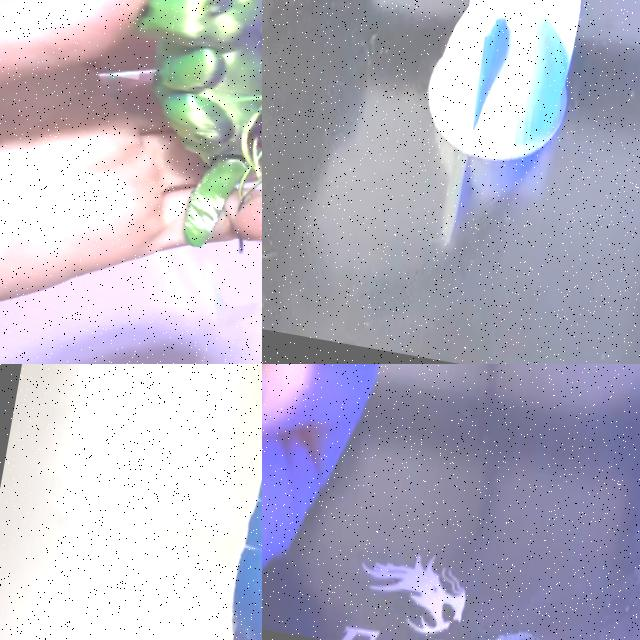spaghetti: (159, 0, 262, 126)
